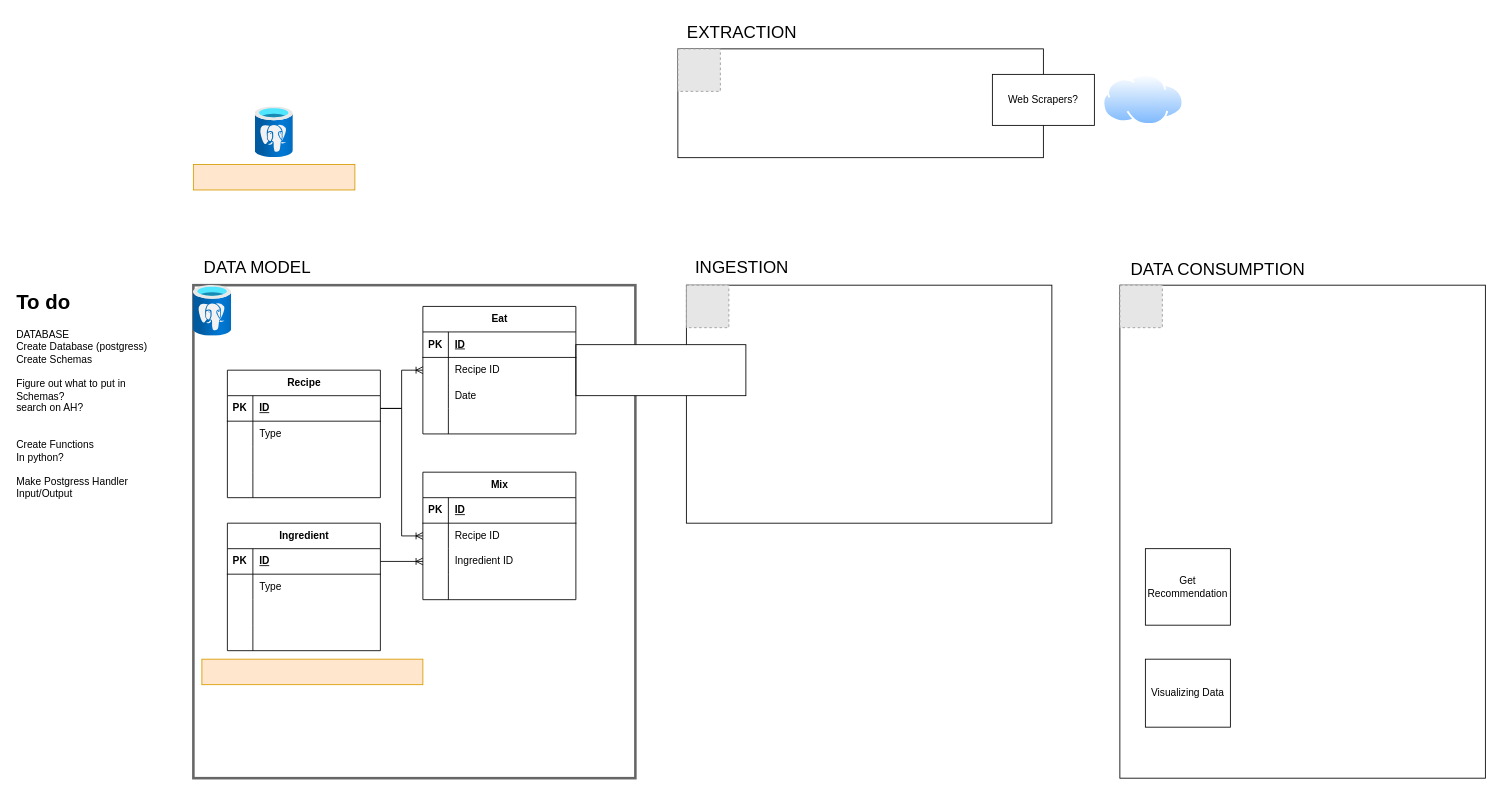
This 1500x794 diagram has some shape labels left out. Grey dashed boxes stand in for pictures. The centre of each missing label's shape, as x and y in pixels:
"Find out what makes Ingredients metadata?" belongs at (x=312, y=671).
"Input Recipe" belongs at (x=660, y=370).
"Staging Tabel for Web Scraper?" belongs at (x=274, y=177).
